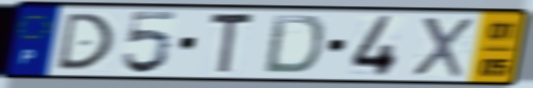4: (346, 14, 399, 79)
5: (119, 9, 179, 76)
D: (260, 13, 327, 77), (53, 11, 117, 72)
T: (208, 11, 258, 77)
X: (409, 15, 475, 80)
